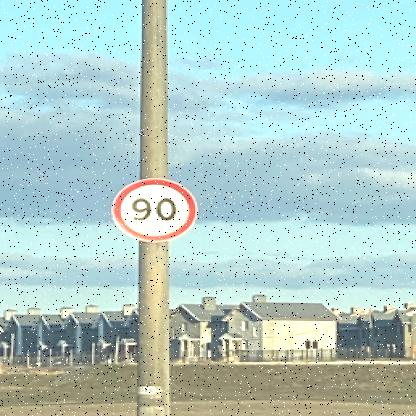speedlimit: (108, 178, 195, 240)
